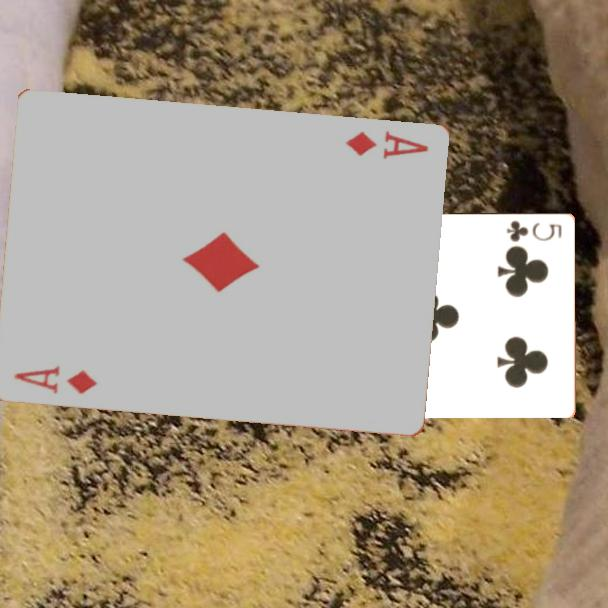c05: (503, 217, 565, 244)
d01: (342, 127, 432, 162), (11, 361, 101, 396)
